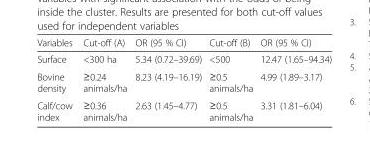table: (36, 36, 331, 122)
table column: (256, 36, 331, 122), (130, 36, 204, 122), (77, 36, 130, 122), (204, 36, 256, 122), (36, 36, 77, 122)
table column header: (36, 36, 331, 50)
table row: (36, 67, 331, 96), (36, 96, 331, 122), (36, 50, 331, 67), (36, 36, 331, 50)
